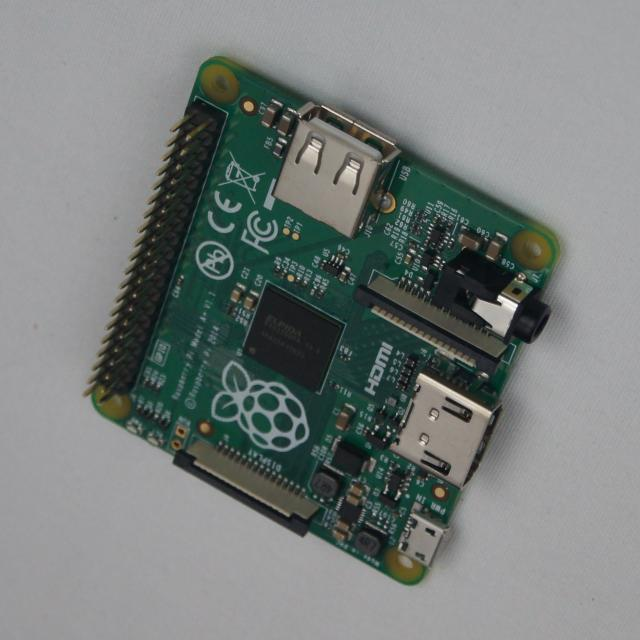Raspberry-Pi-1-A-: (91, 58, 559, 584)
